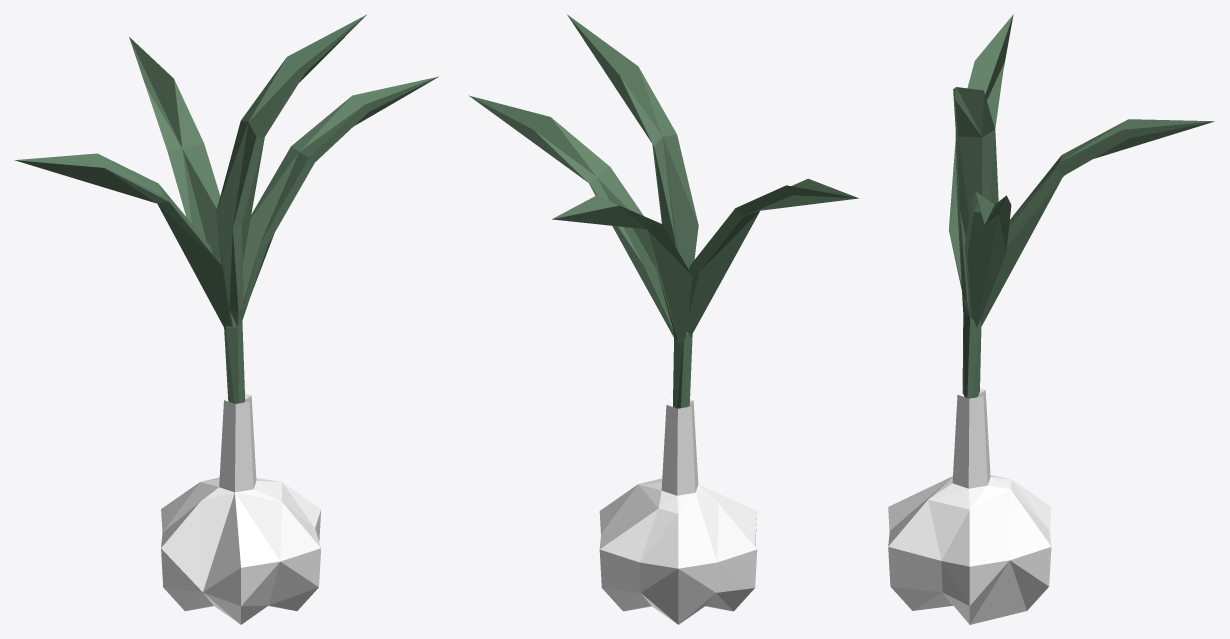
The model's file is garlic.fbx.
3 renders of one model, left to right at view 1: azimuth 30°, elevation 25°; view 2: azimuth 150°, elevation 25°; view 3: azimuth 270°, elevation 25°, orthographic. The views are drawn at different scales.
Parts seen in each view (by area): view 1: garlic; view 2: garlic; view 3: garlic.
Boxes of the visible parts, x1=… form: garlic: x1=14, y1=14, x2=438, y2=624; garlic: x1=469, y1=14, x2=858, y2=624; garlic: x1=888, y1=14, x2=1214, y2=624.
Bounding box in the file's own units: 27.89 × 36.46 × 18.86.
